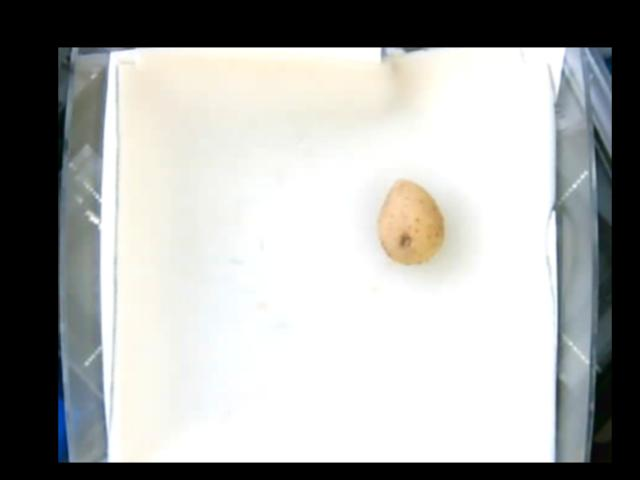Potato: (378, 180, 443, 265)
